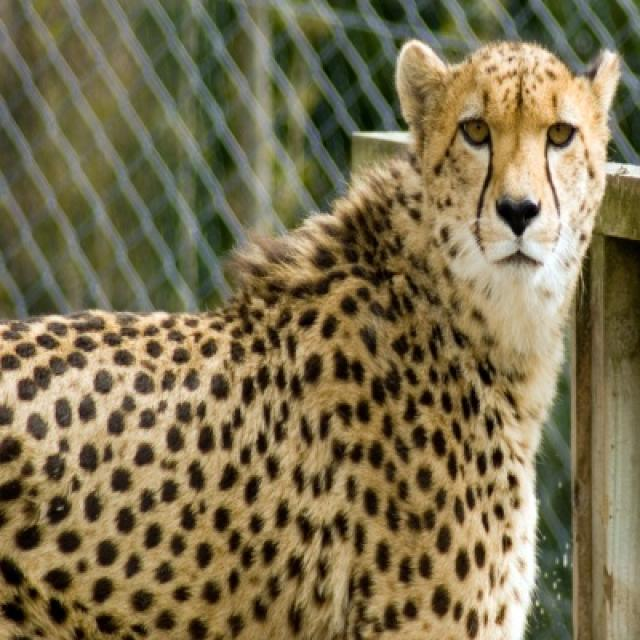Cheetah: (0, 42, 619, 638)
